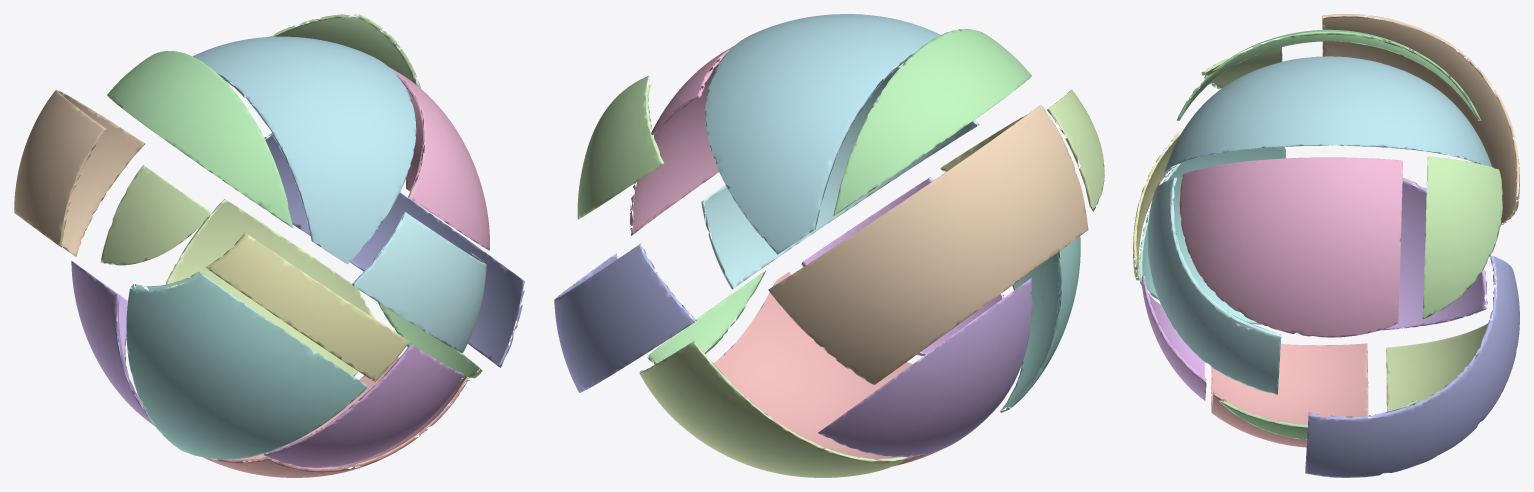
3 views of the same model, side by side, from view 1: azimuth 30°, elevation 25°; view 2: azimuth 150°, elevation 25°; view 3: azimuth 270°, elevation 25° (orthographic). The views are drawn at different scales.
Visible parts, largest first — view 1: Sphere ext 1_0; view 2: Sphere ext 1_0; view 3: Sphere ext 1_0.
Boxes of the visible parts, box(x1,y1,x2,y2) form: Sphere ext 1_0: box(14, 14, 524, 477); Sphere ext 1_0: box(554, 14, 1104, 477); Sphere ext 1_0: box(1133, 14, 1519, 477).
Bounding box in the file's own units: 1.17 × 0.9858 × 0.9549.
Materials: 1 (1 with a texture image).
